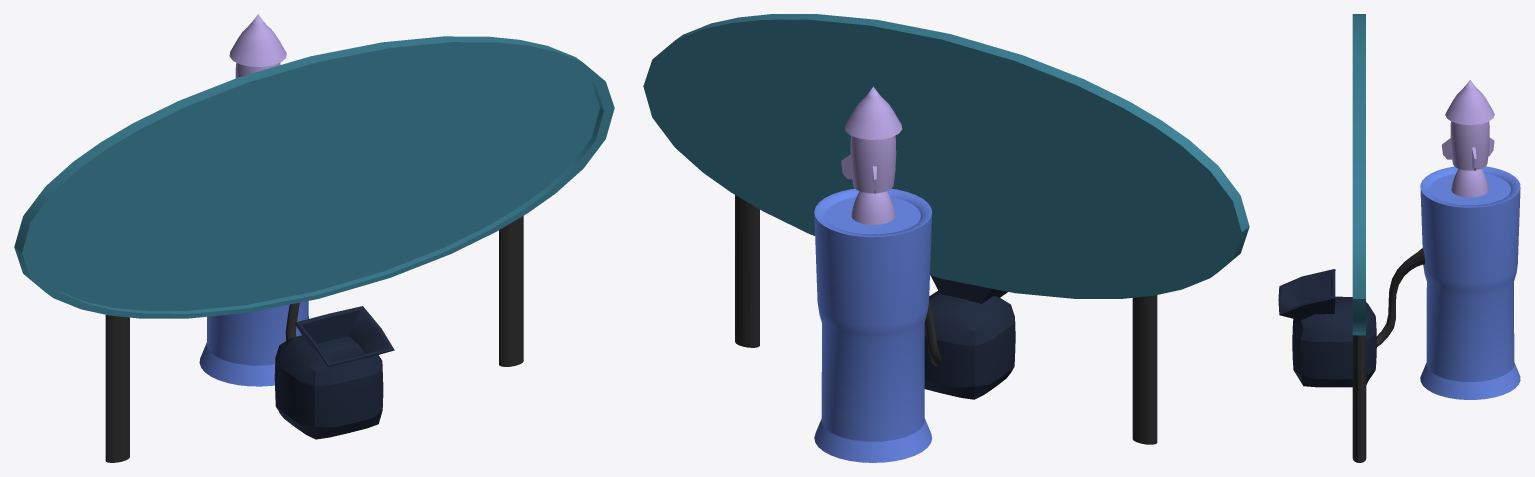
Rendered from Tienda.fbx.
3 views of the same model, side by side, from view 1: azimuth 30°, elevation 25°; view 2: azimuth 150°, elevation 25°; view 3: azimuth 270°, elevation 25° (orthographic). The views are drawn at different scales.
Parts seen in each view (by area): view 1: Tienda.005, Tienda.004, Tienda.002, Tienda.003, Cohete; view 2: Tienda.005, Tienda.003, Tienda.004, Tienda.002, Cohete; view 3: Tienda.003, Tienda.004, Tienda.005, Cohete, Tienda.002, Tienda.
Part boxes in pixels (left/top/right/bottom): Tienda.005: left=14, top=36, right=614, bottom=318; Tienda.004: left=274, top=306, right=394, bottom=439; Tienda.002: left=105, top=216, right=523, bottom=462; Tienda.003: left=199, top=301, right=308, bottom=386; Cohete: left=229, top=14, right=286, bottom=78; Tienda.005: left=643, top=14, right=1249, bottom=298; Tienda.003: left=814, top=188, right=932, bottom=462; Tienda.004: left=924, top=275, right=1015, bottom=399; Tienda.002: left=735, top=195, right=1157, bottom=444; Cohete: left=841, top=86, right=902, bottom=224; Tienda.003: left=1420, top=166, right=1520, bottom=399; Tienda.004: left=1278, top=269, right=1376, bottom=387; Tienda.005: left=1352, top=14, right=1365, bottom=335; Cohete: left=1441, top=80, right=1494, bottom=197; Tienda.002: left=1352, top=333, right=1366, bottom=462; Tienda: left=1376, top=248, right=1424, bottom=346.
Bounding box in the file's own units: 276 × 380 × 670.
